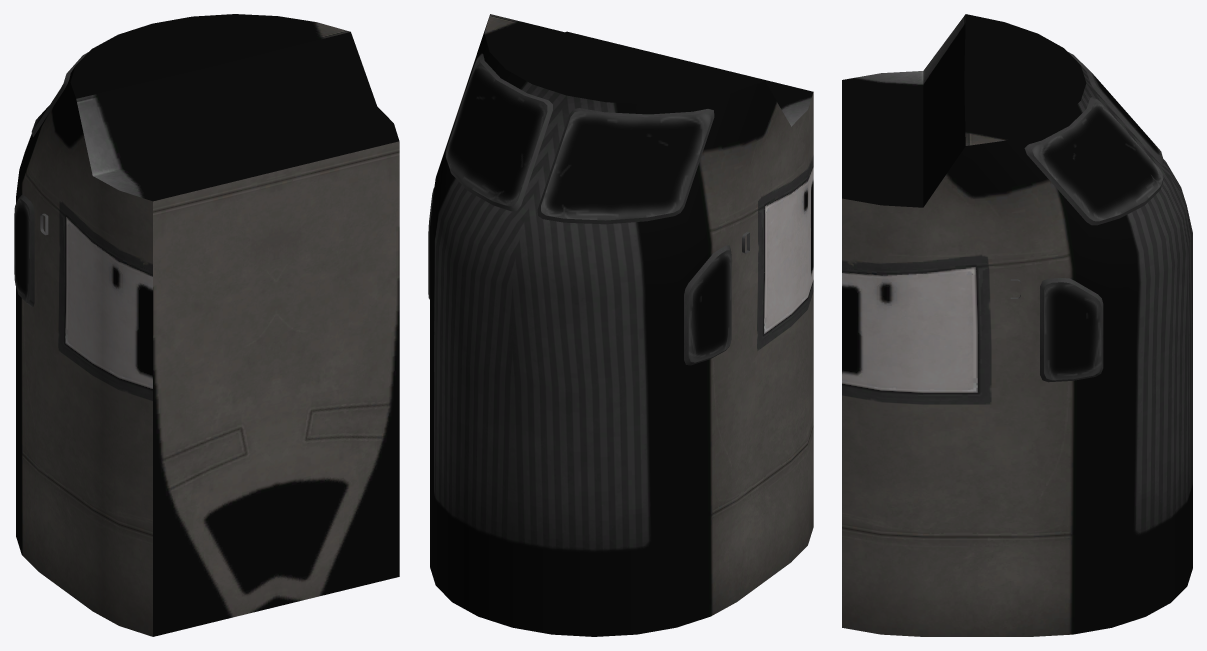
File: size1_turbo_crew_interior.fbx
3 views of the same model, side by side, from view 1: azimuth 30°, elevation 25°; view 2: azimuth 150°, elevation 25°; view 3: azimuth 270°, elevation 25° (orthographic).
Parts seen in each view (by area): view 1: main, windows; view 2: main, windows; view 3: main, windows.
Boxes of the visible parts, box(x1,y1,x2,y2) form: main: box(16, 14, 399, 636); windows: box(14, 76, 65, 303); main: box(428, 14, 813, 636); windows: box(445, 58, 731, 362); main: box(842, 14, 1192, 636); windows: box(1032, 72, 1163, 380).
Size of what is drawn, in the model's own units: 1.23 by 2 by 1.3.
